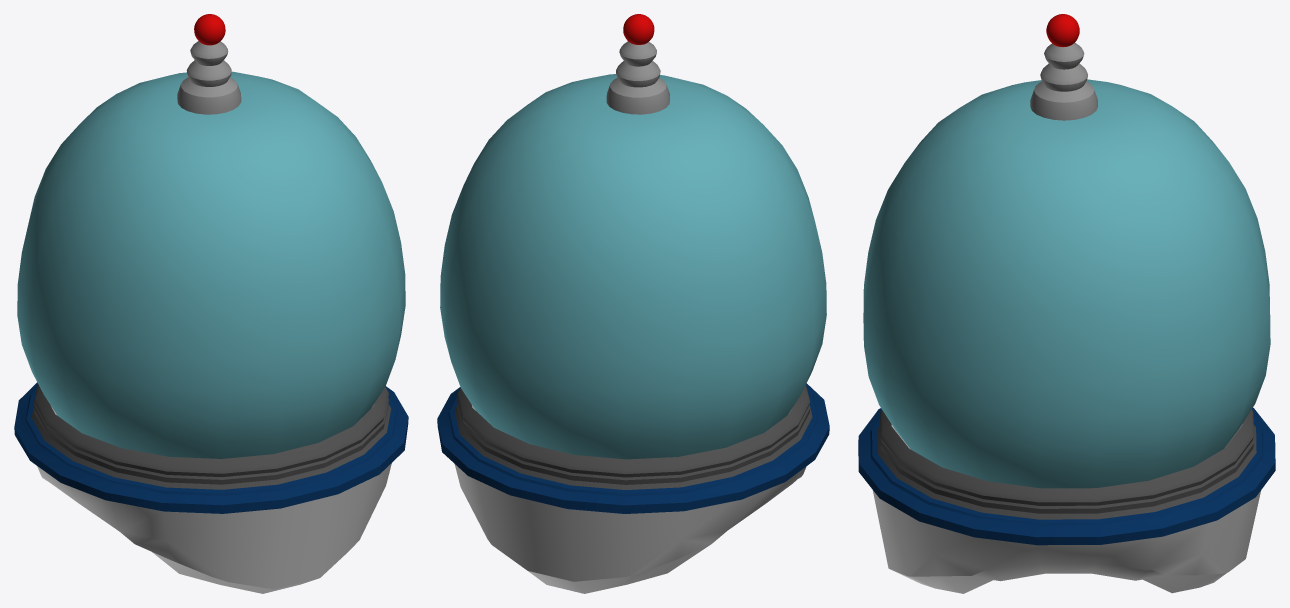
Rendered from Helmet_C.fbx.
The picture shows the model from 3 angles, left to right: view 1: azimuth 30°, elevation 25°; view 2: azimuth 150°, elevation 25°; view 3: azimuth 270°, elevation 25°; orthographic projection. The views are drawn at different scales.
Visible parts, largest first — view 1: pSphere10, pCylinder95, pSphere12; view 2: pSphere10, pCylinder95, pSphere12; view 3: pSphere10, pCylinder95, pSphere12.
Boxes of the visible parts, x1,y1,x2,y2 form: pSphere10: (14,71,408,593); pCylinder95: (177,41,241,114); pSphere12: (194,14,225,45); pSphere10: (437,74,829,593); pCylinder95: (606,41,669,114); pSphere12: (623,14,654,44); pSphere10: (858,79,1275,593); pCylinder95: (1030,43,1097,120); pSphere12: (1046,14,1079,46).
Bounding box in the file's own units: 1.6 × 1.62 × 2.39.
